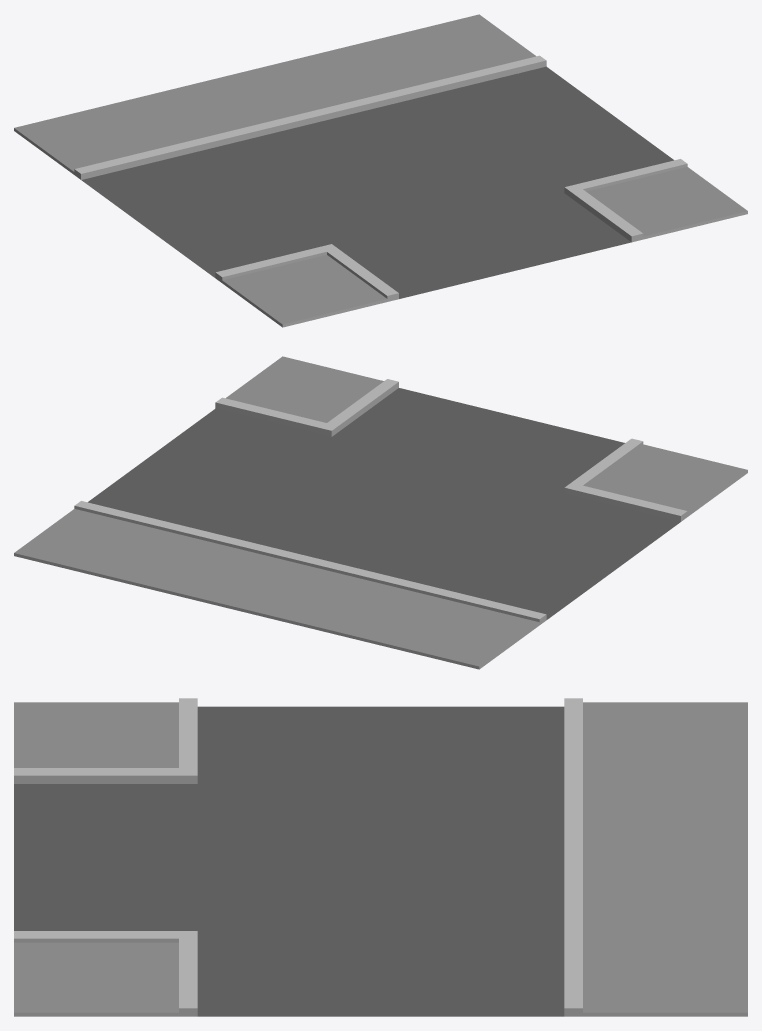
Rendered from street_2cross3.fbx.
3 views of the same model, one above another, from view 1: azimuth 30°, elevation 25°; view 2: azimuth 150°, elevation 25°; view 3: azimuth 270°, elevation 25° (orthographic). The views are drawn at different scales.
Visible parts, largest first — view 1: street_2cross3; view 2: street_2cross3; view 3: street_2cross3.
Part boxes in pixels (box(x1,y1,x2,y2)): street_2cross3: box(14, 14, 747, 327); street_2cross3: box(14, 356, 747, 669); street_2cross3: box(14, 698, 747, 1016).
Bounding box in the file's own units: 16 × 0.2 × 16.
